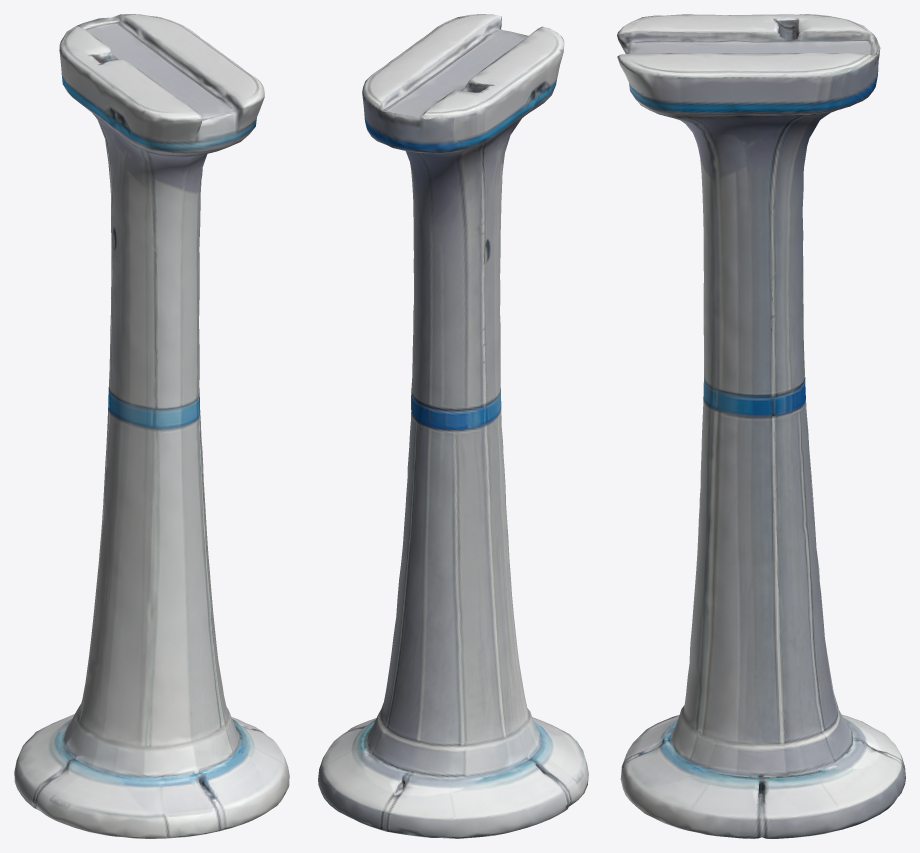
File: 롯데_모노기둥.glb
The picture shows the model from 3 angles, left to right: view 1: azimuth 30°, elevation 25°; view 2: azimuth 150°, elevation 25°; view 3: azimuth 270°, elevation 25°; orthographic projection. The views are drawn at different scales.
Visible parts, largest first — view 1: texture_mapping; view 2: texture_mapping; view 3: texture_mapping.
Part boxes in pixels (x1,y1,x2,y2): texture_mapping: (14,14,289,838); texture_mapping: (318,14,588,838); texture_mapping: (617,14,905,838).
Size of the model in its own units: 0.3398 by 1 by 0.3536.
Materials: 1 (1 with a texture image).
